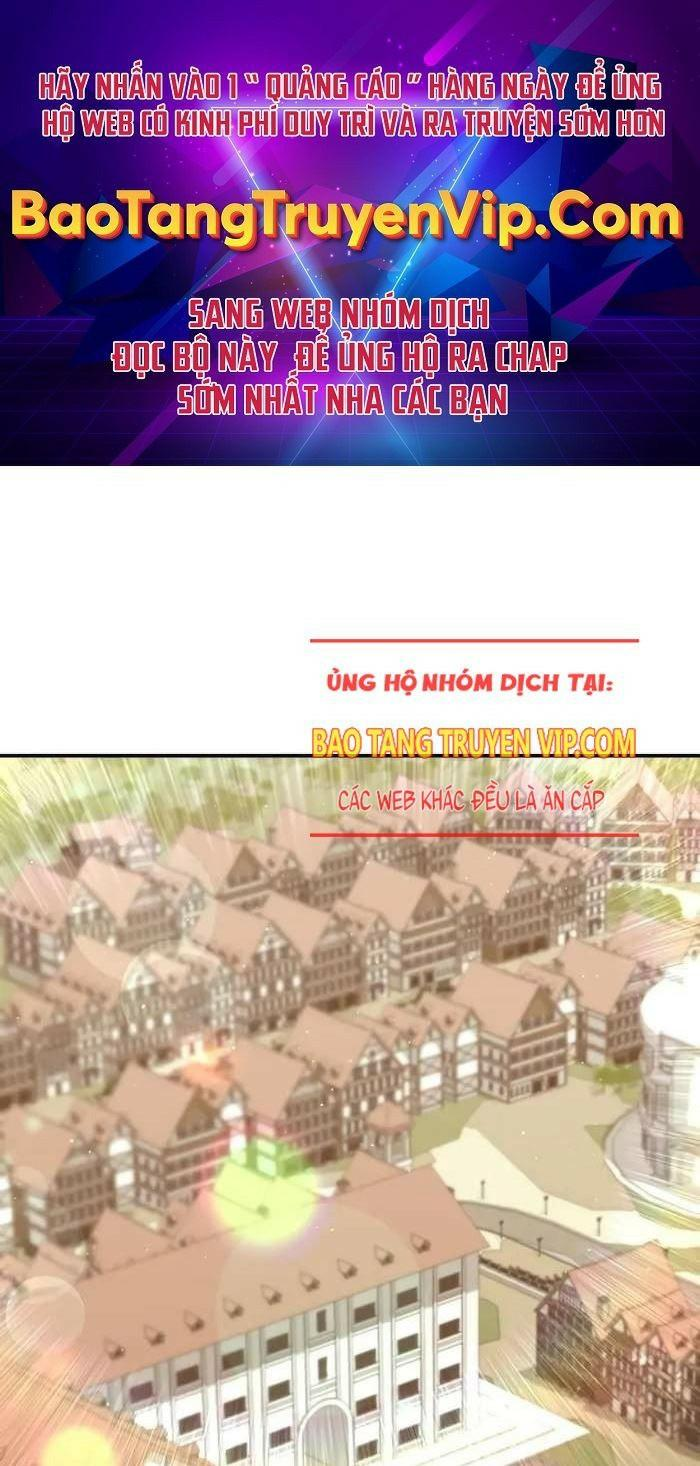quangcao: (2, 0, 700, 478), (306, 636, 656, 842)
